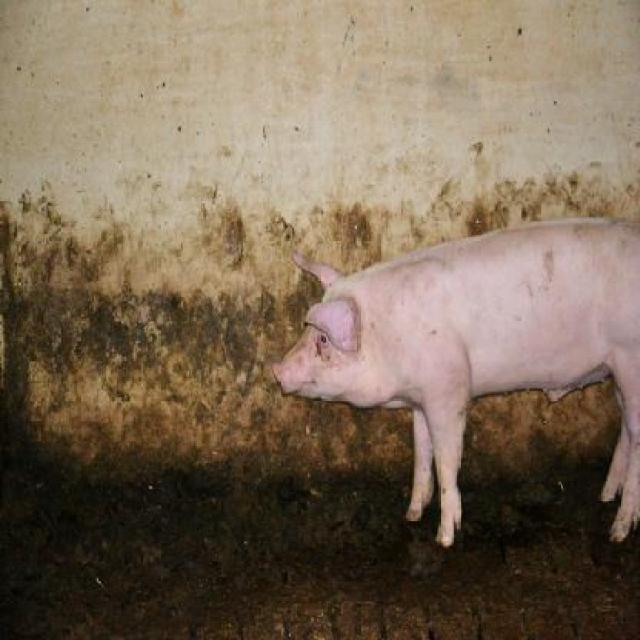Boar: (273, 213, 639, 542)
